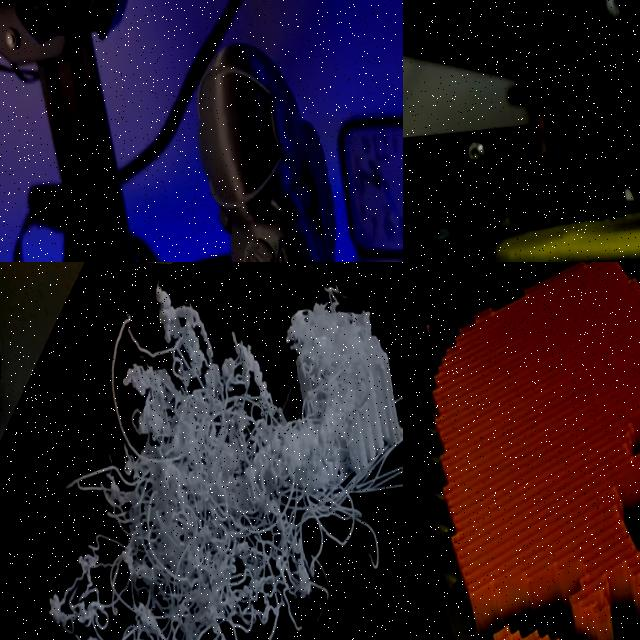spaghetti: (16, 262, 403, 640)
